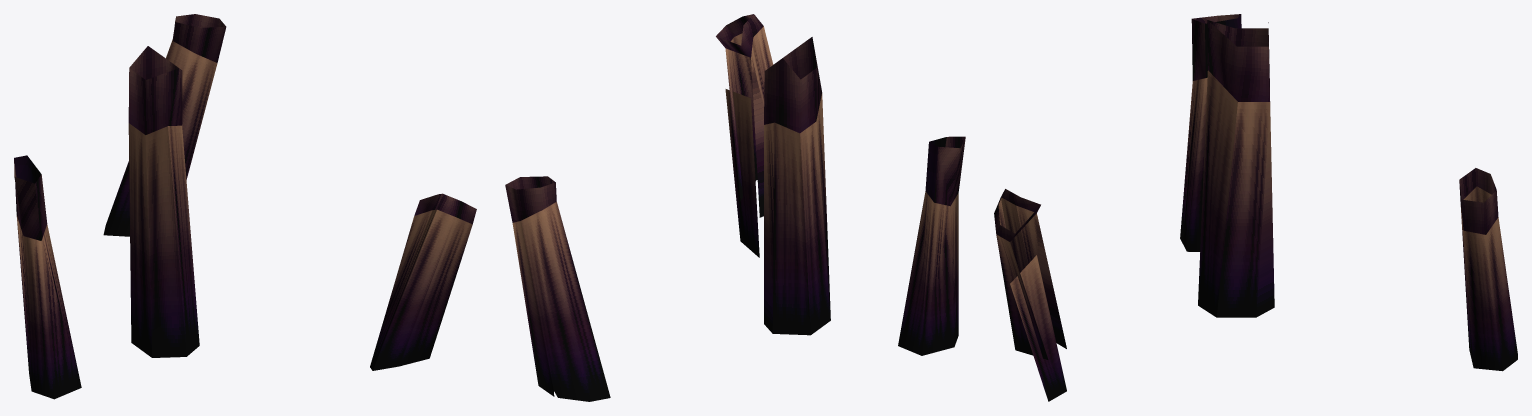
File: Light.obj
3 renders of one model, left to right at view 1: azimuth 30°, elevation 25°; view 2: azimuth 150°, elevation 25°; view 3: azimuth 270°, elevation 25°, orthographic. The views are drawn at different scales.
Visible parts, largest first — view 1: LightShaft; view 2: LightShaft; view 3: LightShaft.
Part boxes in pixels (x1=…): LightShaft: x1=14, y1=14, x2=476, y2=399; LightShaft: x1=505, y1=14, x2=965, y2=401; LightShaft: x1=994, y1=14, x2=1517, y2=401.
Bounding box in the file's own units: 12.11 × 10.15 × 15.51.
